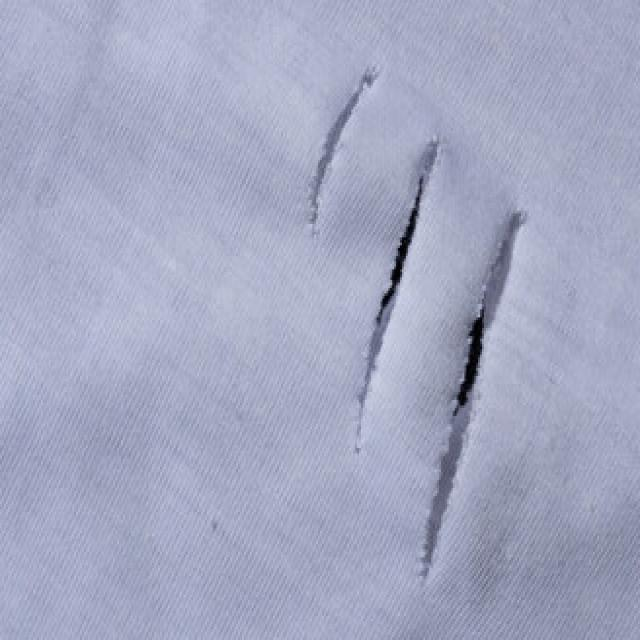Hole: (420, 211, 527, 578), (356, 136, 441, 454), (309, 65, 380, 234)
